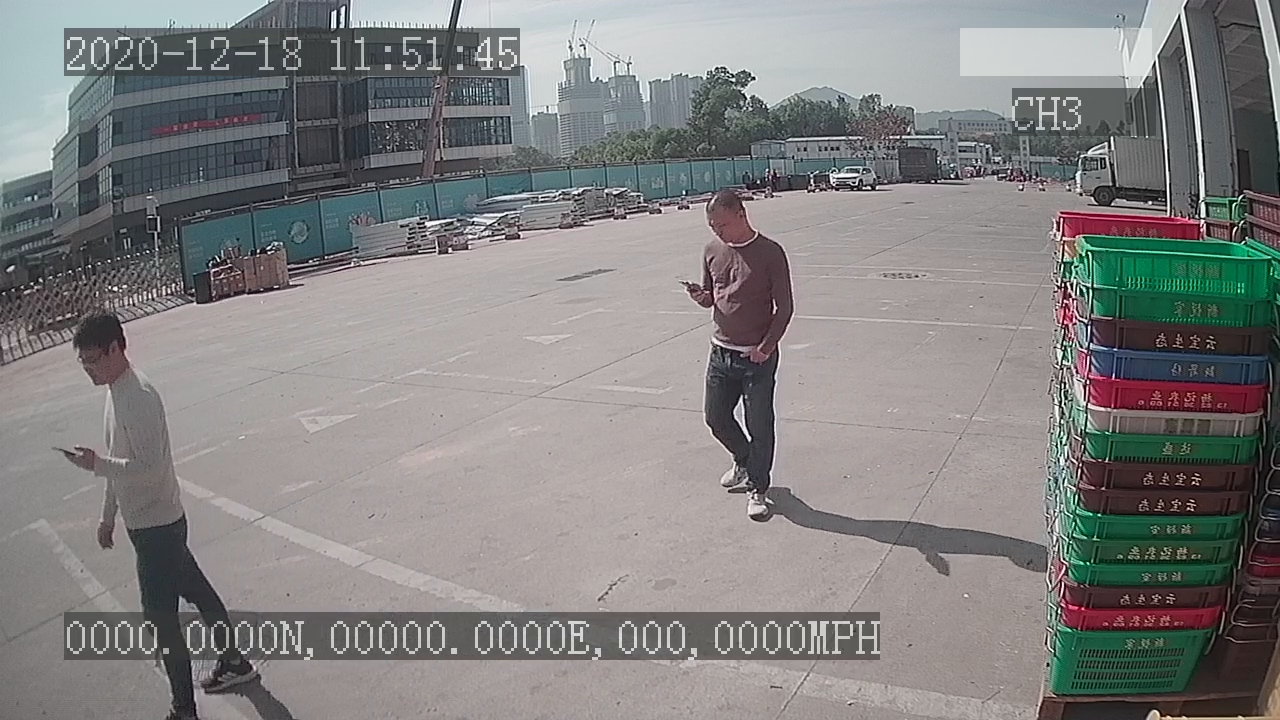person: (670, 185, 797, 529)
